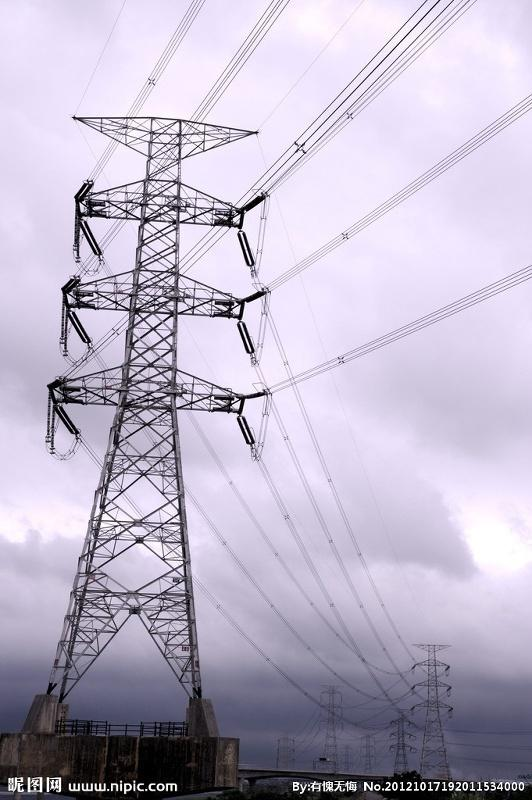power_tower: (4, 84, 294, 735)
